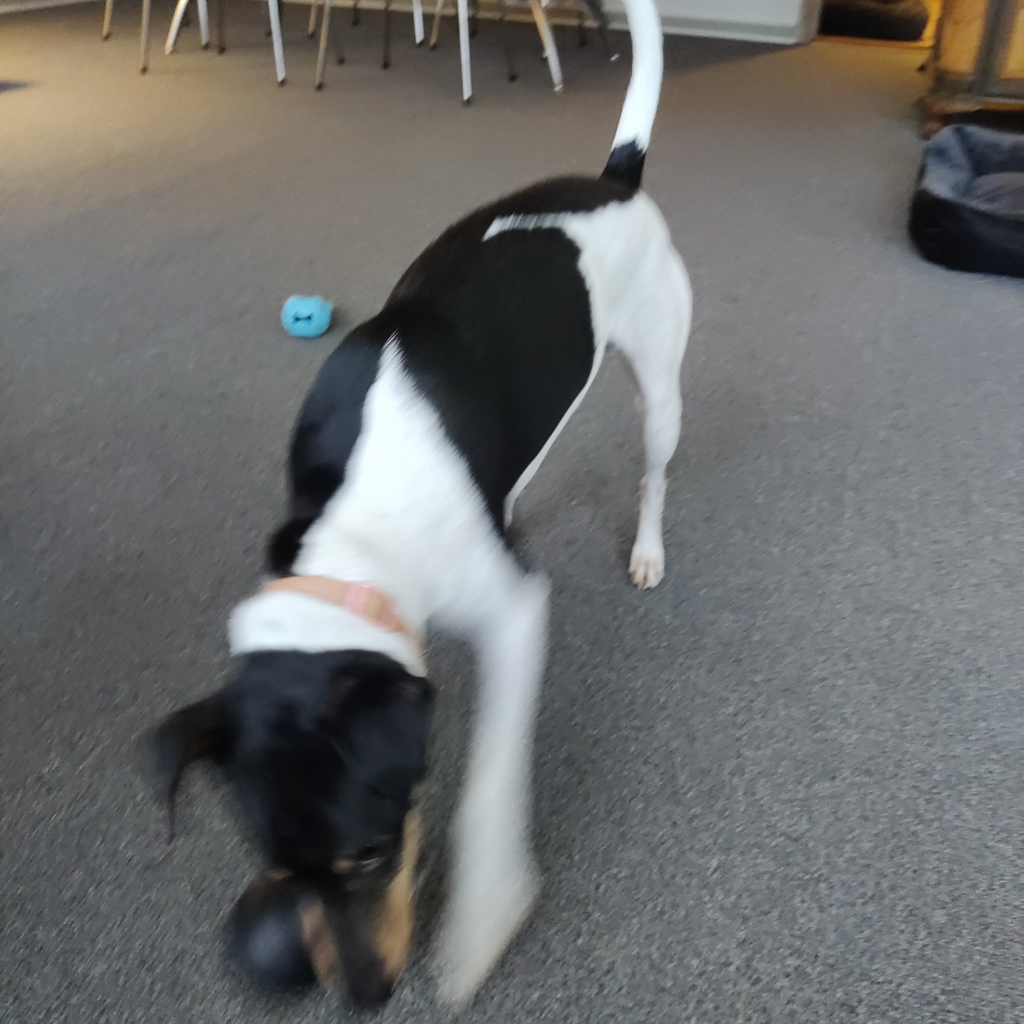Dog: (124, 0, 705, 1024)
